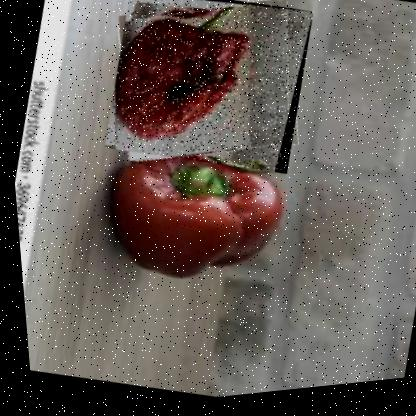capsicum_rotten: (91, 0, 324, 196)
